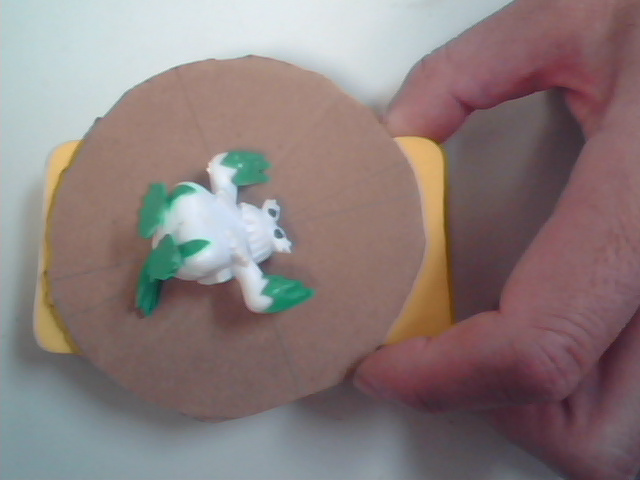abomasnow: (118, 144, 350, 370)
